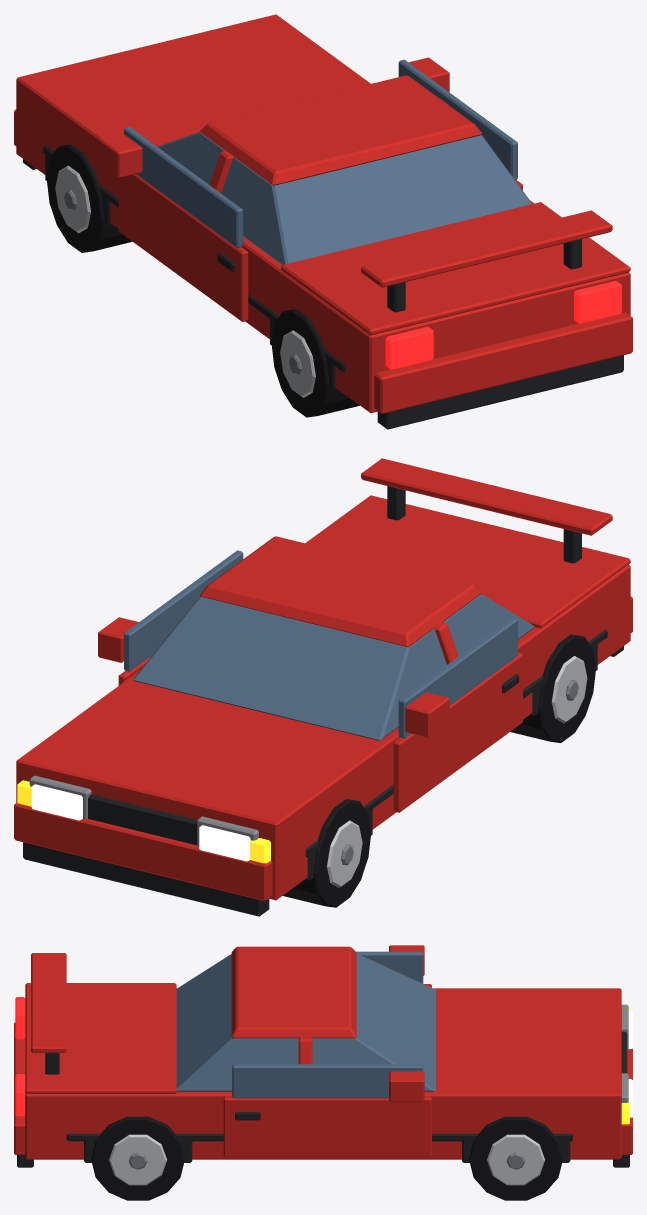
The model's file is car_coupe.glb.
3 views of the same model, one above another, from view 1: azimuth 30°, elevation 25°; view 2: azimuth 150°, elevation 25°; view 3: azimuth 270°, elevation 25° (orthographic). The views are drawn at different scales.
Parts seen in each view (by area): view 1: car_body, car_door_FL, car_door_FR; view 2: car_body, car_door_FL, car_door_FR; view 3: car_body, car_door_FR, car_door_FL.
Boxes of the visible parts, x1,y1,x2,y2 form: car_body: (14,14,632,429); car_door_FL: (98,126,248,321); car_door_FR: (398,57,522,190); car_body: (14,458,632,916); car_door_FL: (393,617,522,812); car_door_FR: (98,550,243,685); car_body: (14,946,632,1200); car_door_FR: (223,1064,431,1157); car_door_FL: (356,945,431,987).
Size of the model in its own units: 2.26 by 1.23 by 4.34.
